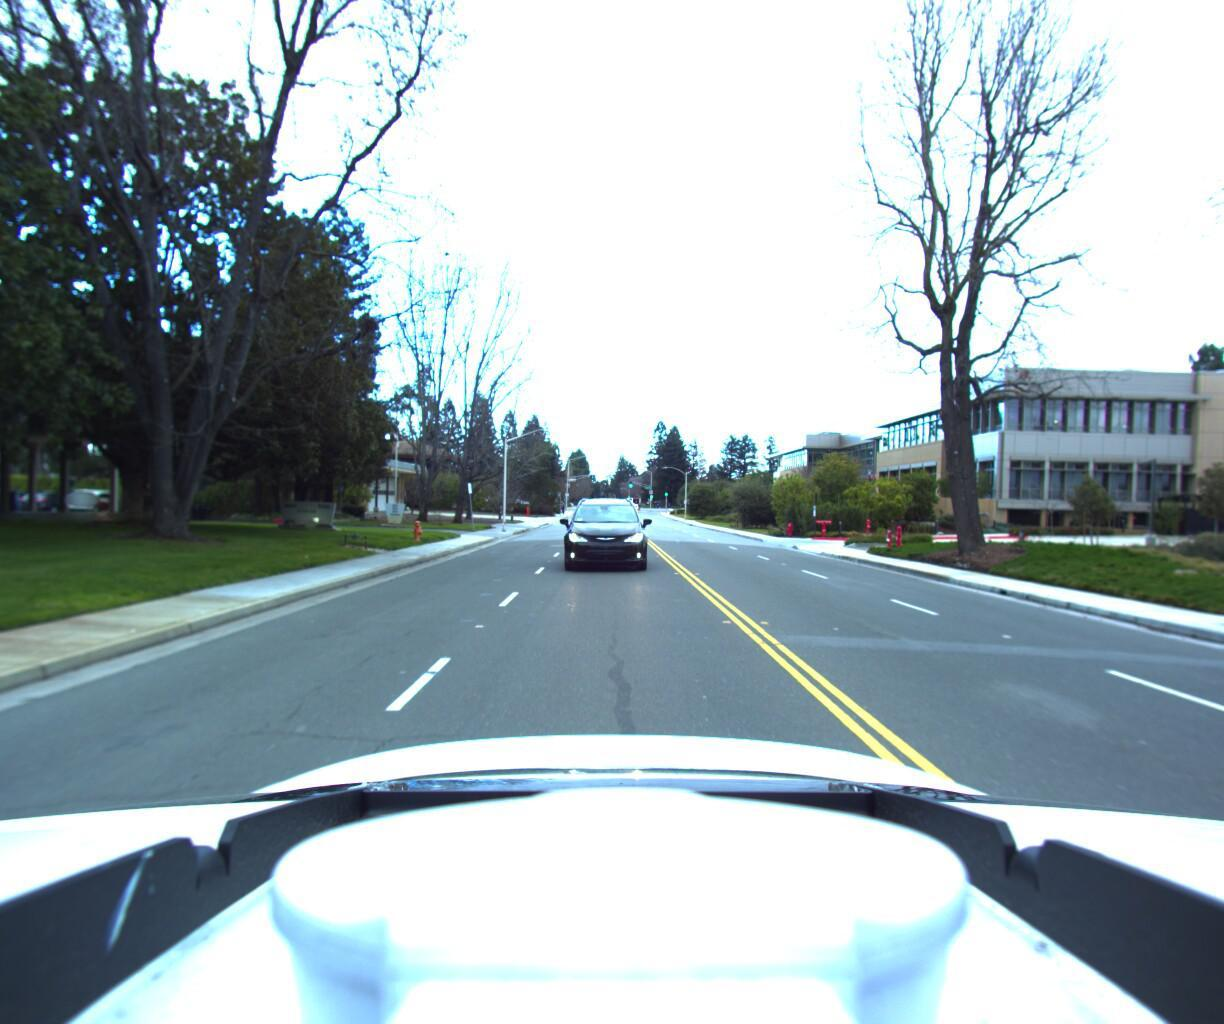car: (552, 491, 645, 578)
